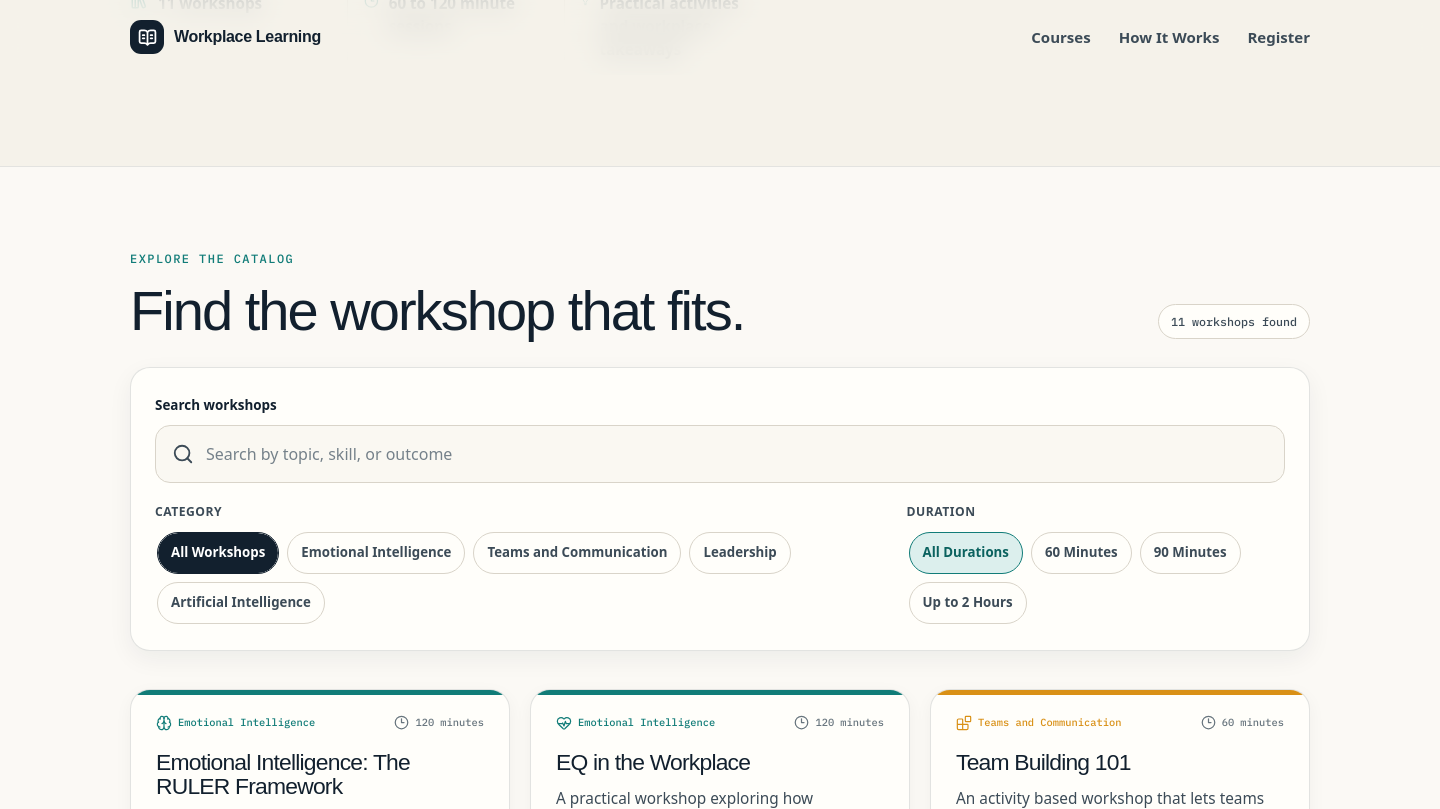
Test case: workshop explorer › resets active filters
(page scrolled)
Type "Copilot" into the search field labelled "Search workshops". click: (739, 454)
box: x1=194 y1=426 x2=1284 y2=482
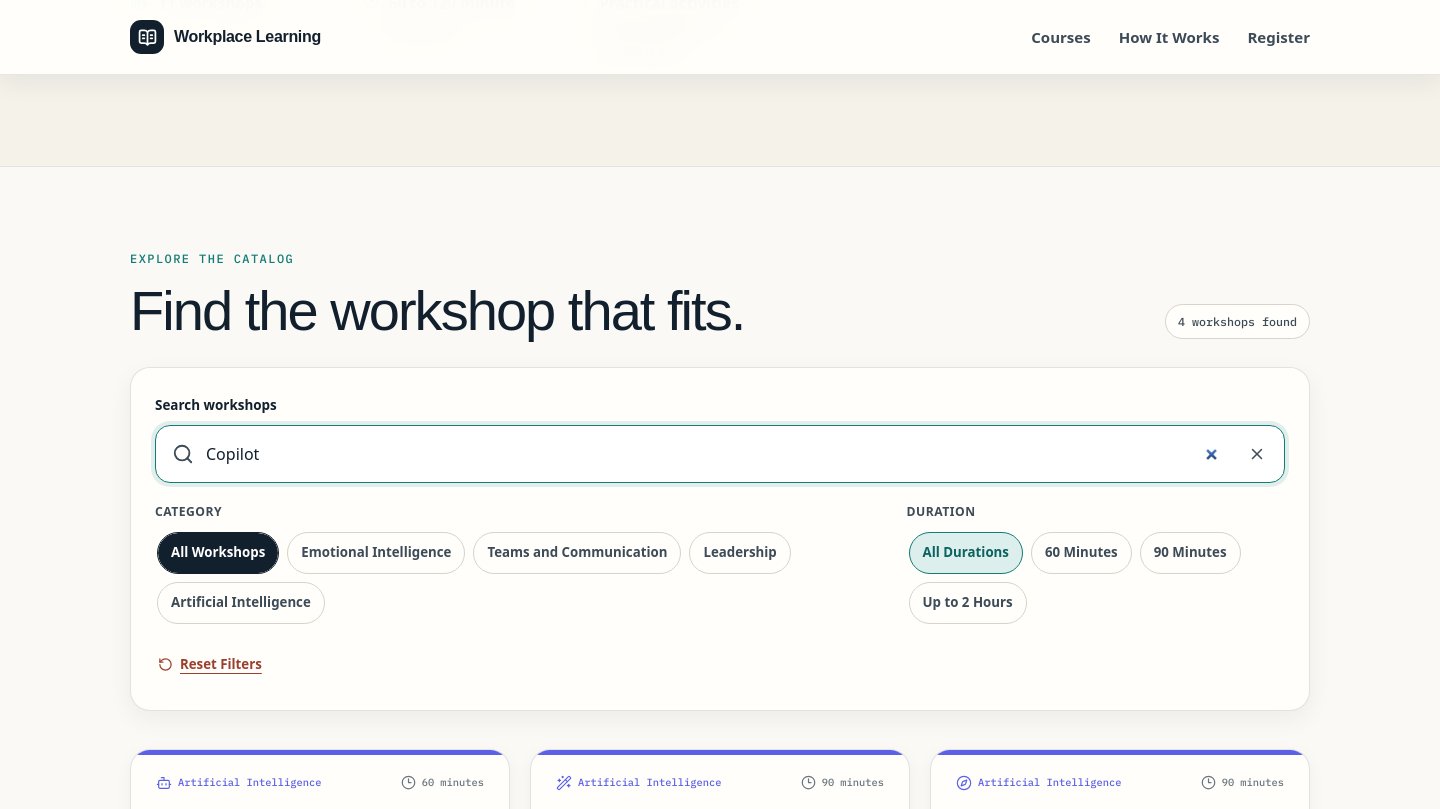
Click the button "90 Minutes". click: (1190, 553)
box: x1=1140 y1=532 x2=1240 y2=574
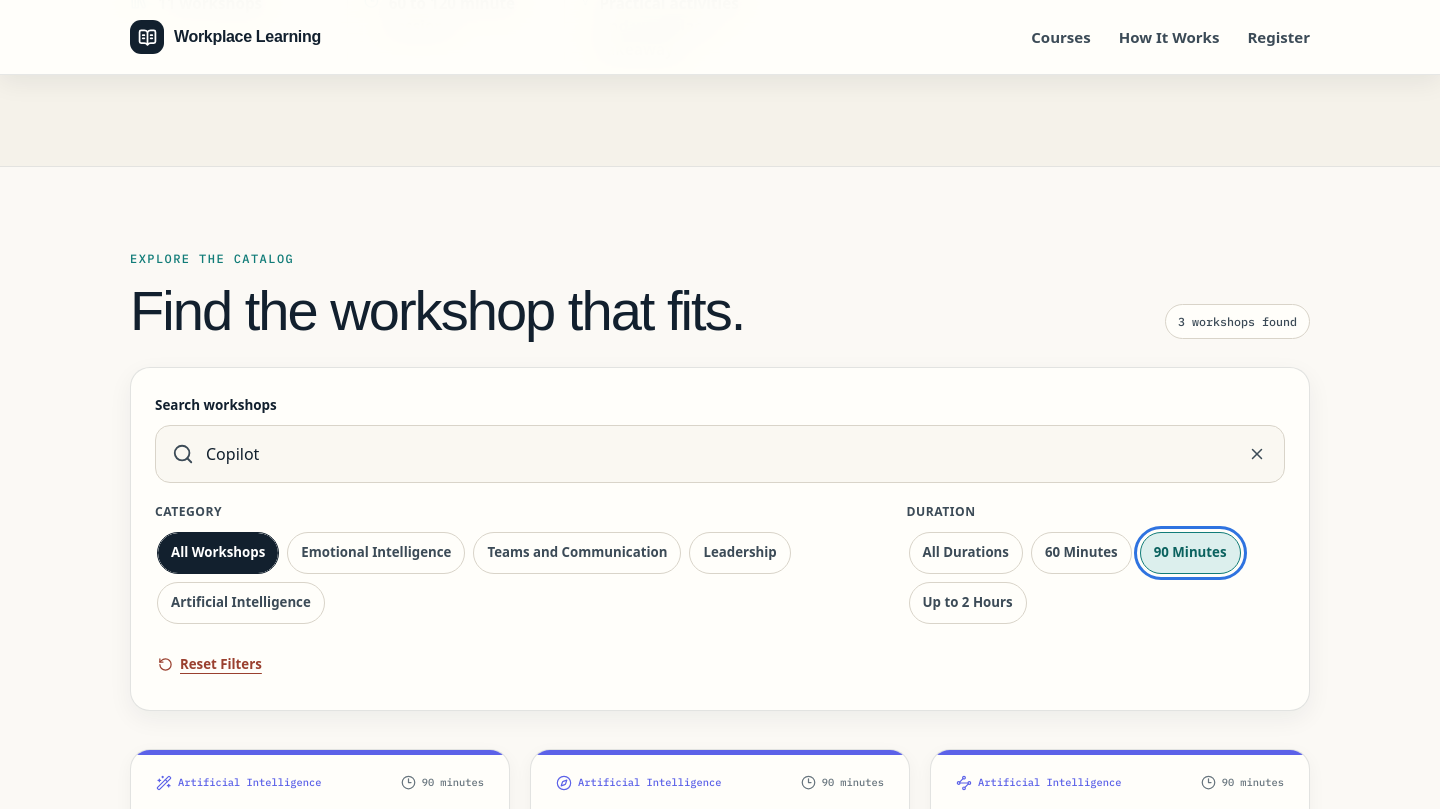
Click the button "Reset Filters". click: (210, 665)
box: x1=155 y1=644 x2=265 y2=686
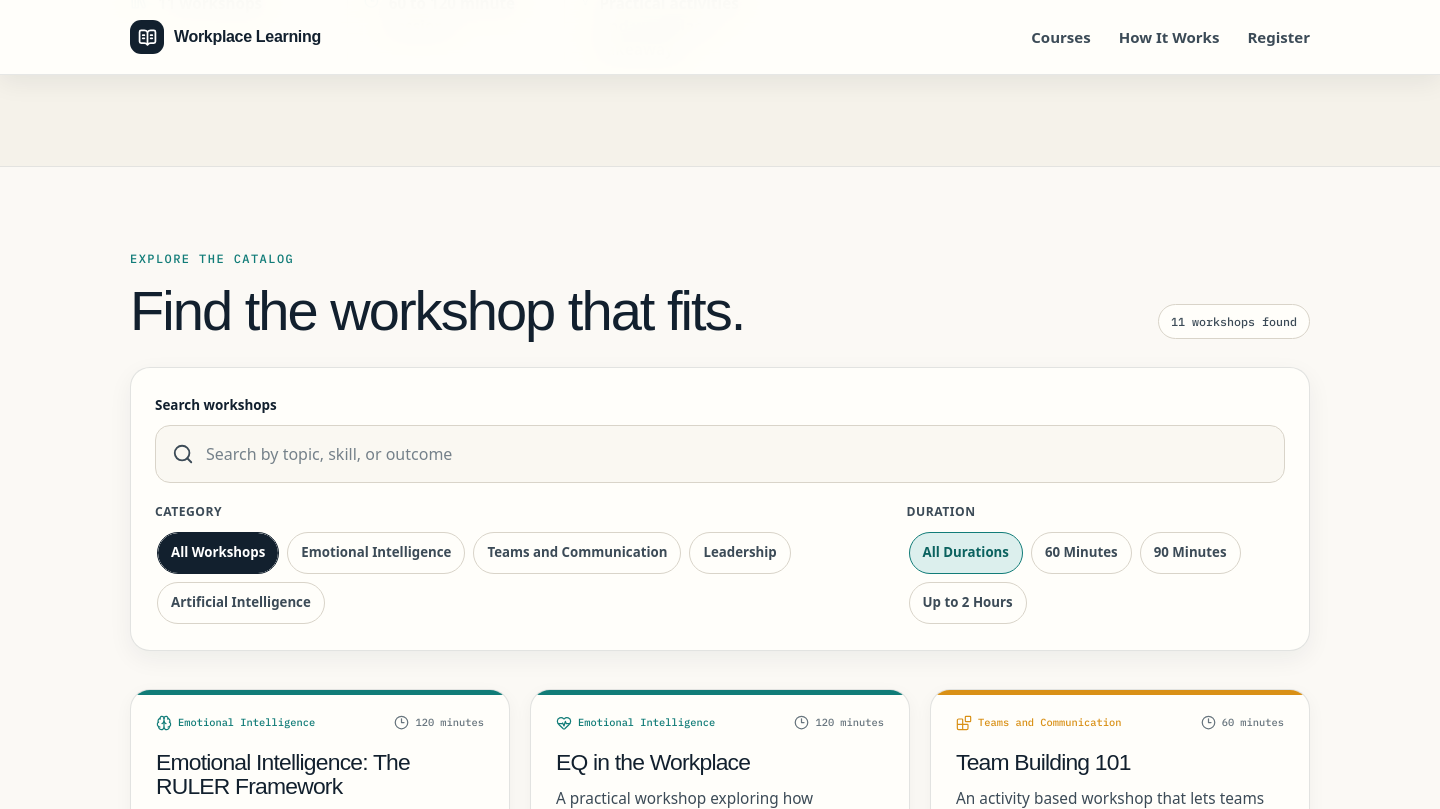
expect the search field labelled "Search workshops" is empty: met, box x1=194 y1=426 x2=1284 y2=482
expect the message reads "11 workshops found": met, box x1=1171 y1=314 x2=1297 y2=329
expect the button "Reset Filters" is gone: met
